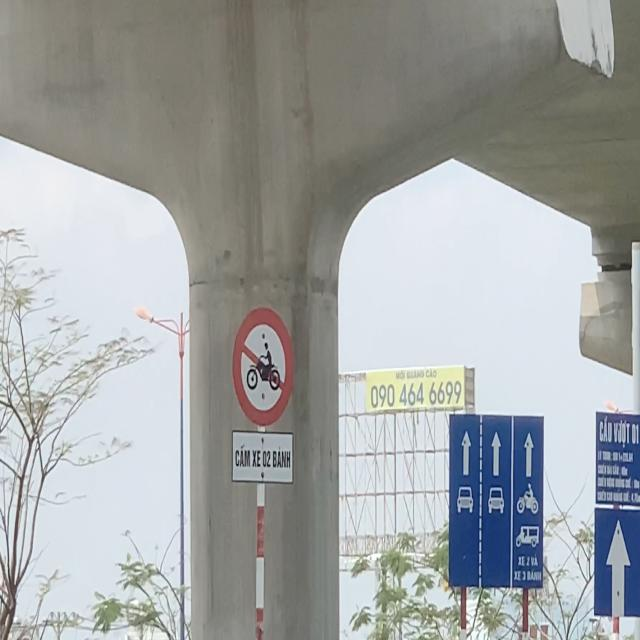Cam con lai: (230, 302, 296, 429)
Chi dan: (592, 504, 640, 619)
